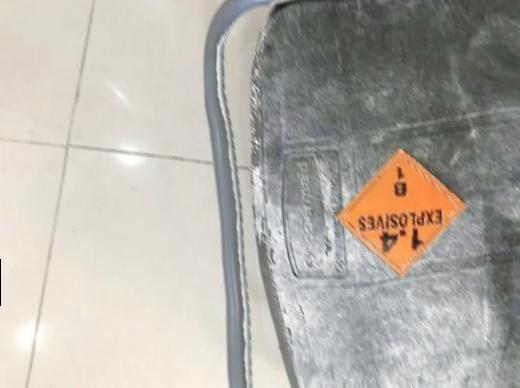explosive: (334, 147, 470, 280)
